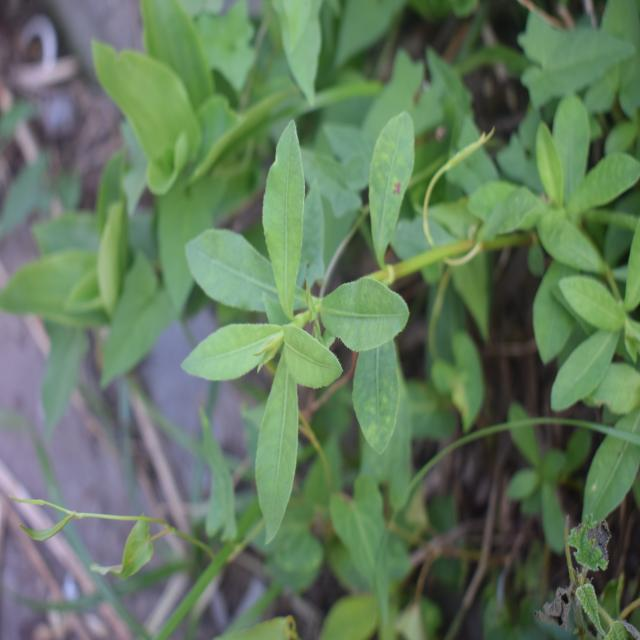Alligatorweed: (217, 135, 433, 483)
